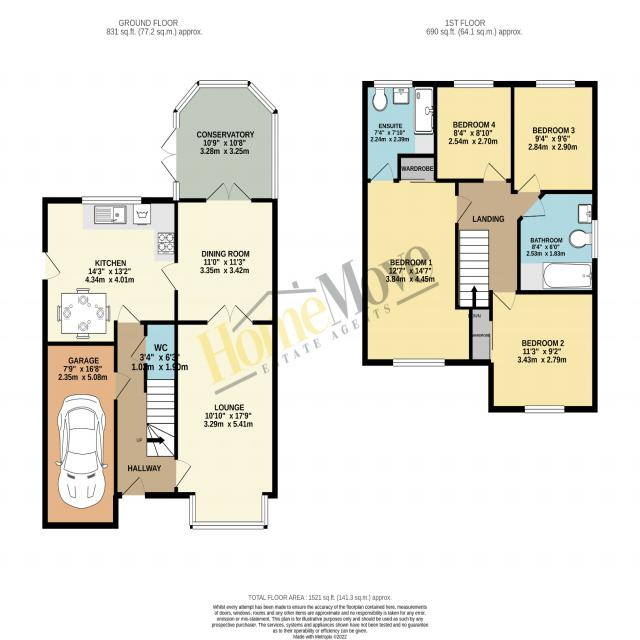DOOR: (454, 193, 474, 224), (42, 250, 62, 281), (121, 475, 146, 499), (520, 196, 546, 218), (369, 160, 395, 182), (482, 161, 507, 183), (160, 262, 178, 292), (117, 303, 141, 325), (174, 459, 192, 488), (492, 290, 516, 311), (517, 173, 541, 194)
DOUBLE DOOR: (160, 127, 180, 183), (205, 181, 252, 202), (207, 304, 253, 325)
ROOM: (174, 303, 278, 530), (362, 161, 473, 367), (42, 196, 178, 346), (159, 182, 278, 325), (469, 289, 598, 413), (511, 80, 598, 194), (433, 80, 515, 183)
WINDOW: (189, 494, 269, 530), (392, 357, 447, 368), (81, 196, 142, 205), (373, 79, 413, 89), (524, 405, 565, 414), (535, 80, 576, 89), (453, 80, 494, 89), (591, 219, 599, 259)
